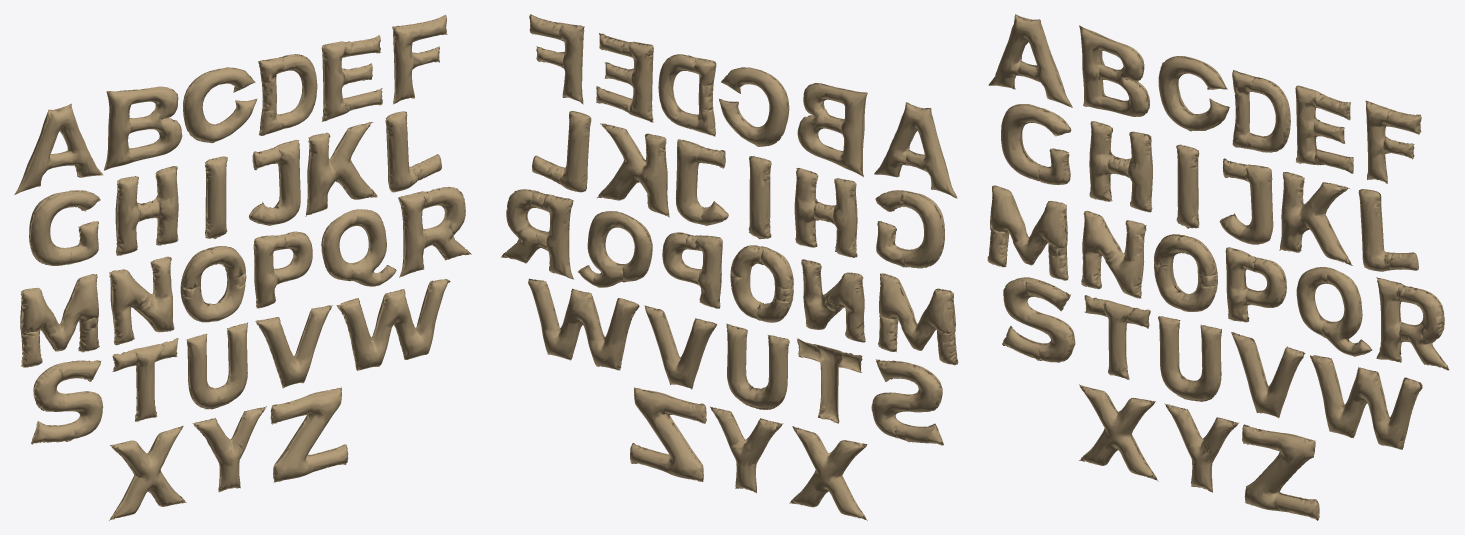
Rendered from alphabet.glb.
The picture shows the model from 3 angles, left to right: view 1: azimuth 30°, elevation 25°; view 2: azimuth 150°, elevation 25°; view 3: azimuth 330°, elevation 25°; orthographic projection.
Parts seen in each view (by area): view 1: W, M, B, Z, R, S, H, N, K, Q, G, X (+14 smaller); view 2: W, M, B, Z, R, S, H, K, G, Q, A, X (+14 smaller); view 3: W, M, R, B, Z, S, N, H, K, Q, X, G (+14 smaller).
Boxes of the visible parts, left/top/right/bottom form: W: left=336, top=279, right=450, bottom=370; M: left=20, top=274, right=99, bottom=367; B: left=104, top=86, right=182, bottom=170; Z: left=270, top=387, right=348, bottom=482; R: left=398, top=186, right=471, bottom=277; S: left=31, top=360, right=103, bottom=444; H: left=115, top=166, right=178, bottom=255; N: left=109, top=256, right=174, bottom=345; K: left=305, top=122, right=377, bottom=216; Q: left=321, top=209, right=396, bottom=286; G: left=29, top=190, right=100, bottom=265; X: left=109, top=425, right=186, bottom=520; W: left=528, top=278, right=639, bottom=370; M: left=878, top=273, right=958, bottom=365; B: left=797, top=83, right=867, bottom=176; Z: left=630, top=387, right=706, bottom=481; R: left=500, top=189, right=573, bottom=279; S: left=871, top=359, right=943, bottom=445; H: left=794, top=168, right=857, bottom=257; K: left=597, top=123, right=669, bottom=217; G: left=875, top=190, right=944, bottom=268; Q: left=577, top=211, right=652, bottom=287; A: left=874, top=102, right=957, bottom=198; X: left=789, top=426, right=867, bottom=520; W: left=1310, top=355, right=1422, bottom=449; M: left=987, top=185, right=1068, bottom=280; R: left=1376, top=277, right=1449, bottom=370; B: left=1079, top=25, right=1149, bottom=116; Z: left=1242, top=424, right=1319, bottom=520; S: left=1002, top=277, right=1075, bottom=362; N: left=1081, top=210, right=1146, bottom=298; H: left=1089, top=121, right=1152, bottom=212; K: left=1279, top=172, right=1352, bottom=265; Q: left=1296, top=267, right=1372, bottom=356; X: left=1079, top=384, right=1158, bottom=481; G: left=1001, top=104, right=1071, bottom=184.
Bounding box in the file's own units: 19.73 × 17.78 × 1.11.
